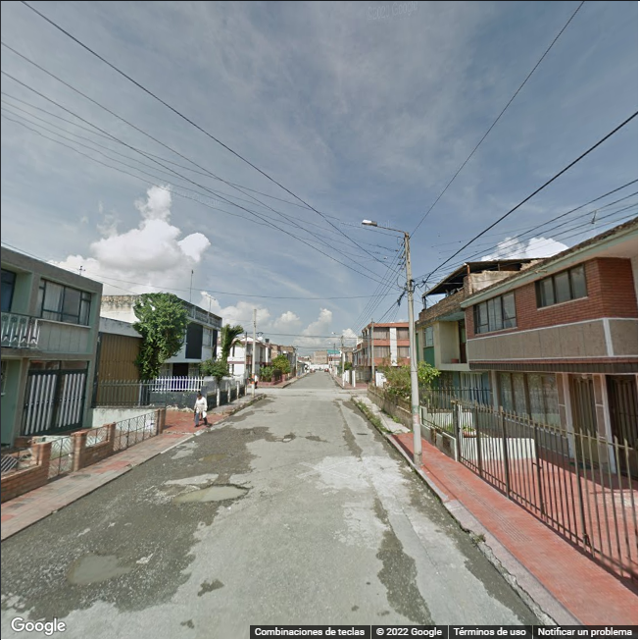D00: (390, 488, 437, 570)
D40: (65, 545, 121, 586), (175, 473, 241, 505)
